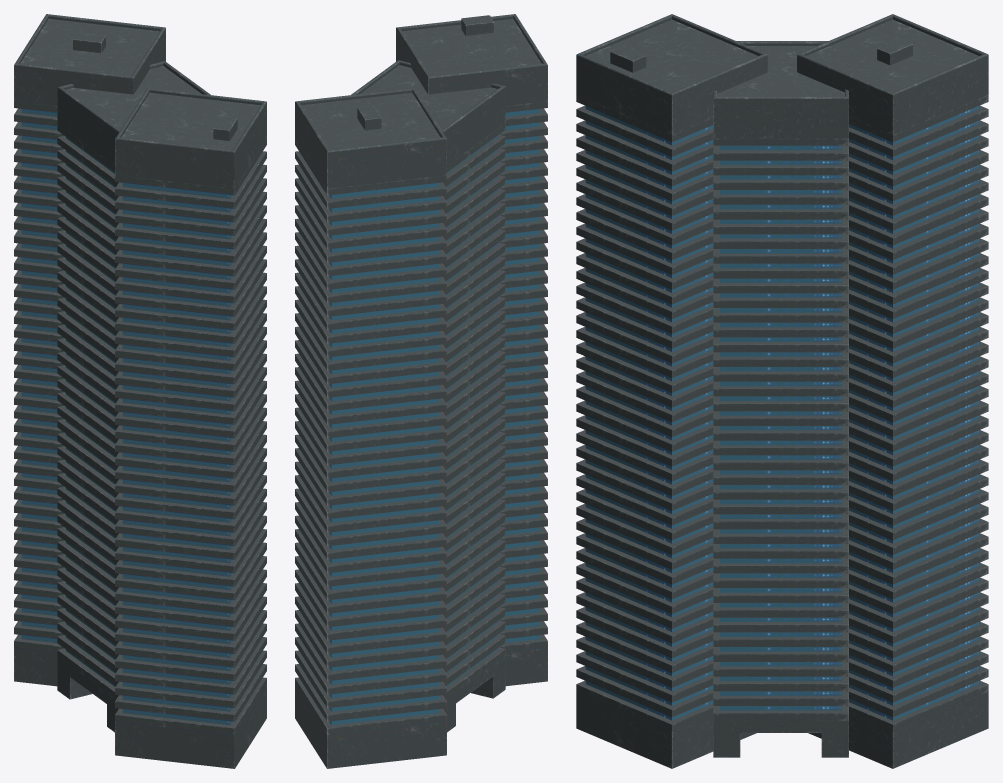
Rendered from scifi-b11.gltf.
3 renders of one model, left to right at view 1: azimuth 30°, elevation 25°; view 2: azimuth 150°, elevation 25°; view 3: azimuth 270°, elevation 25°, orthographic. The views are drawn at different scales.
Parts seen in each view (by area): view 1: lod0; view 2: lod0; view 3: lod0.
Boxes of the visible parts, x1=… form: lod0: x1=14, y1=14, x2=266, y2=768; lod0: x1=295, y1=14, x2=547, y2=768; lod0: x1=576, y1=14, x2=988, y2=768.
Size of what is drawn, in the model's own units: 70.71 by 278 by 152.
Materials: 1 (1 with a texture image).
